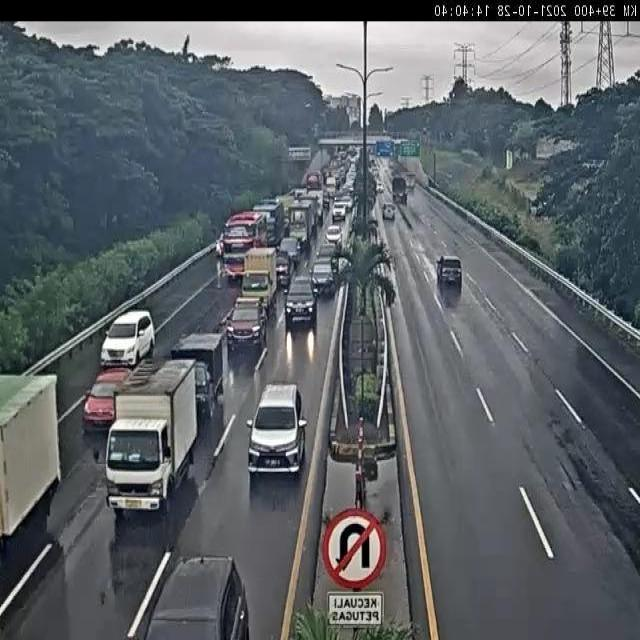Bus: (220, 209, 268, 281), (248, 200, 283, 247)
Car: (146, 552, 249, 640), (246, 383, 309, 481), (98, 308, 156, 367), (82, 371, 130, 428), (225, 296, 267, 354), (281, 276, 319, 326), (308, 256, 336, 294), (437, 254, 461, 287), (270, 252, 294, 282), (280, 238, 301, 264), (323, 224, 344, 247), (381, 200, 396, 222), (331, 203, 347, 222)
Truck: (105, 360, 196, 517), (0, 369, 64, 547), (166, 332, 222, 419), (242, 248, 277, 306), (289, 195, 317, 251), (308, 189, 326, 220), (390, 176, 409, 204)
